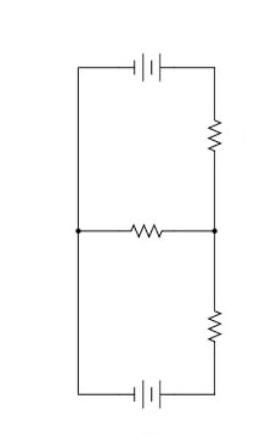resistor: (192, 286, 232, 351), (113, 212, 181, 249), (200, 102, 230, 161)
